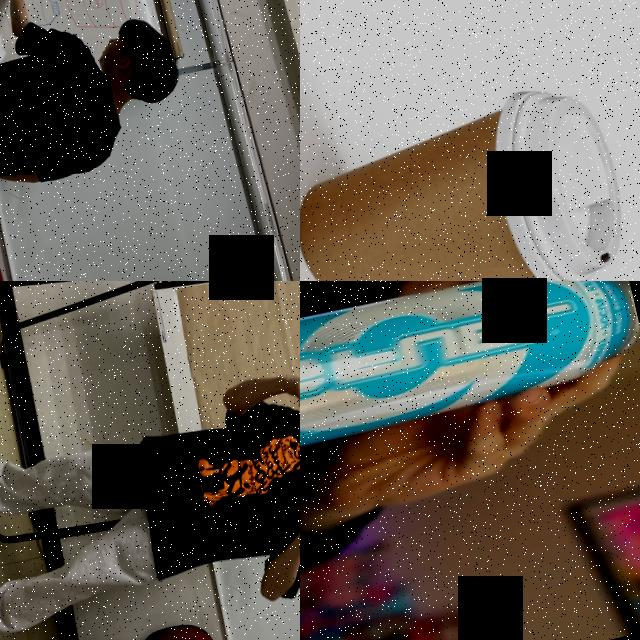can: (300, 281, 640, 499)
cup: (300, 74, 638, 281)
